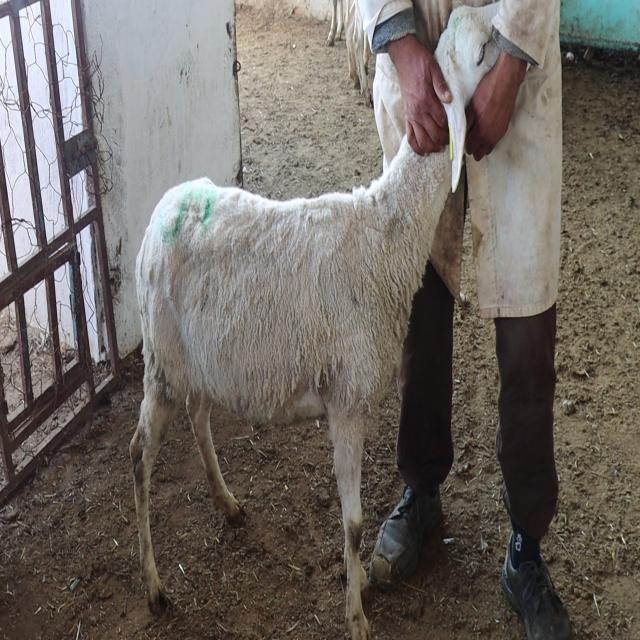Score_2: (130, 2, 500, 639)
